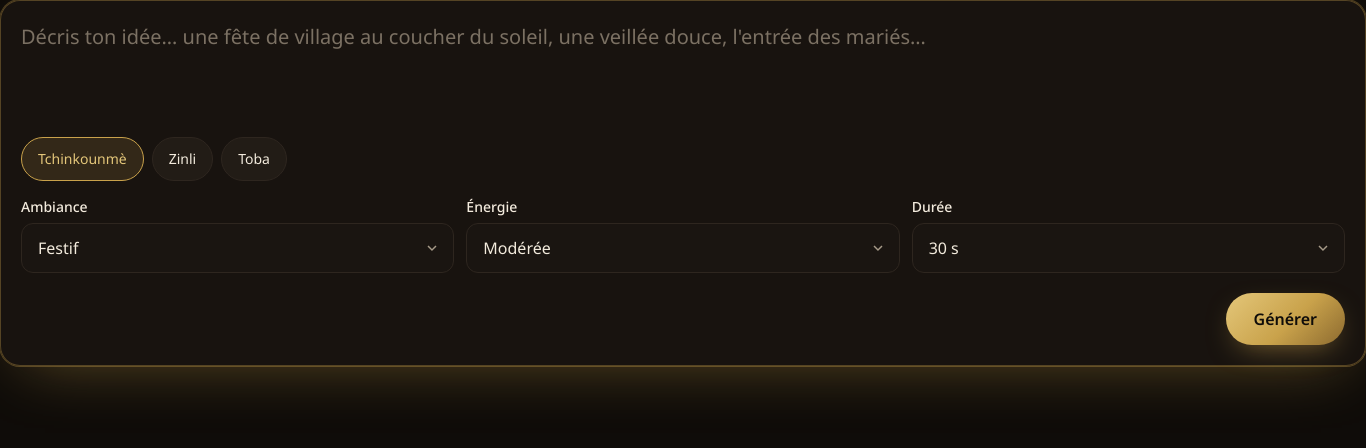
Test: CreationBox — signed in › asks for an idea instead of sending an empty one
The image size is (1366, 448).
Click the button "Générer" at (1285, 318), box [1226,292,1345,344]
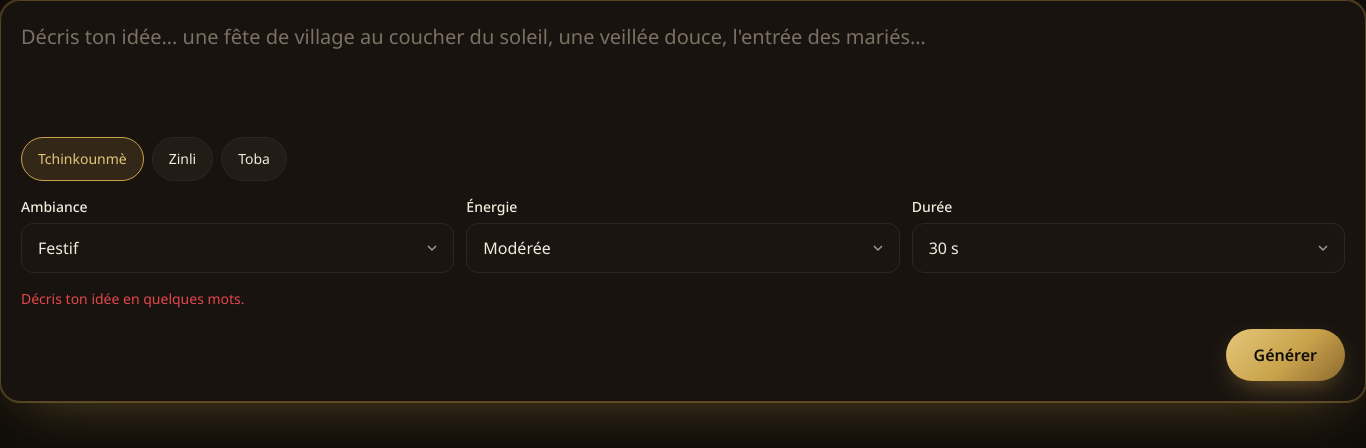
Expected: the message reads "Décris ton idée en quelques mots.", [21,288,245,308]
